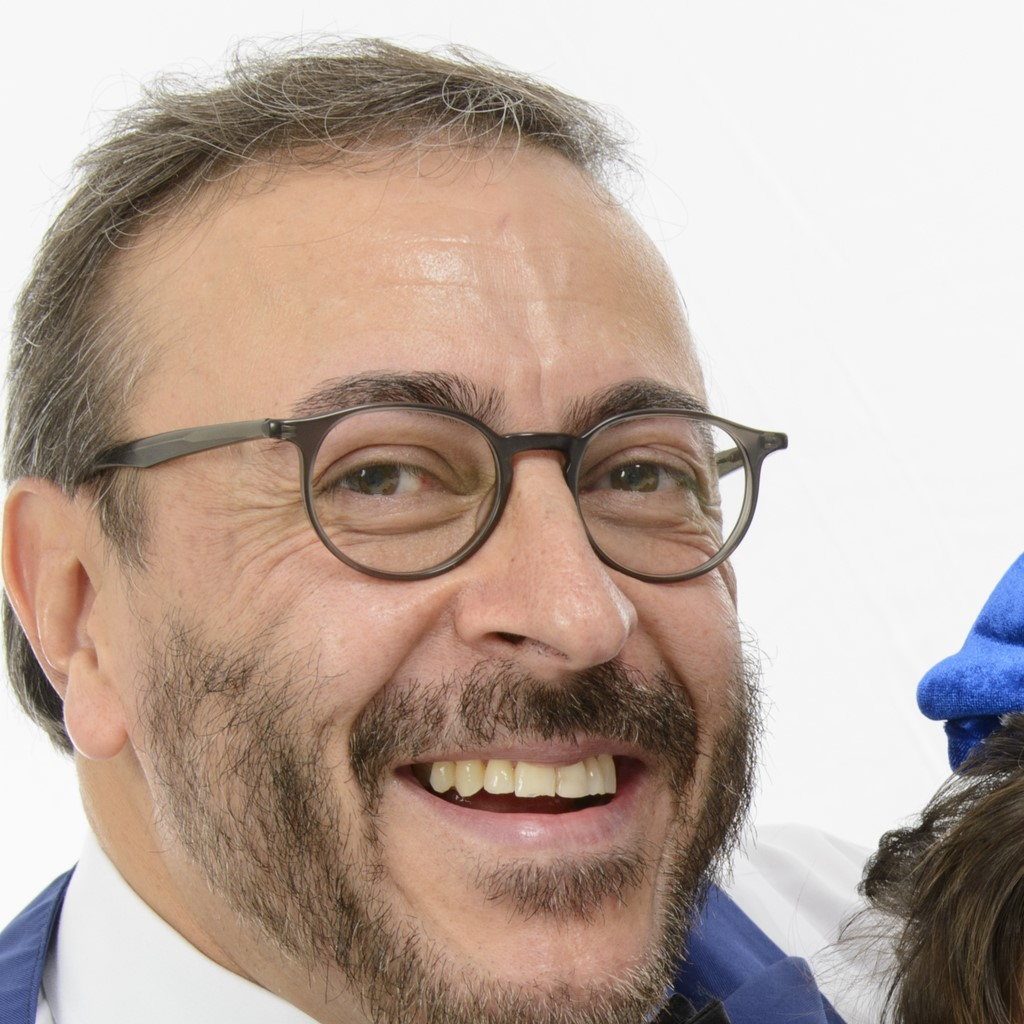sin_mascara: (113, 119, 712, 1023)
